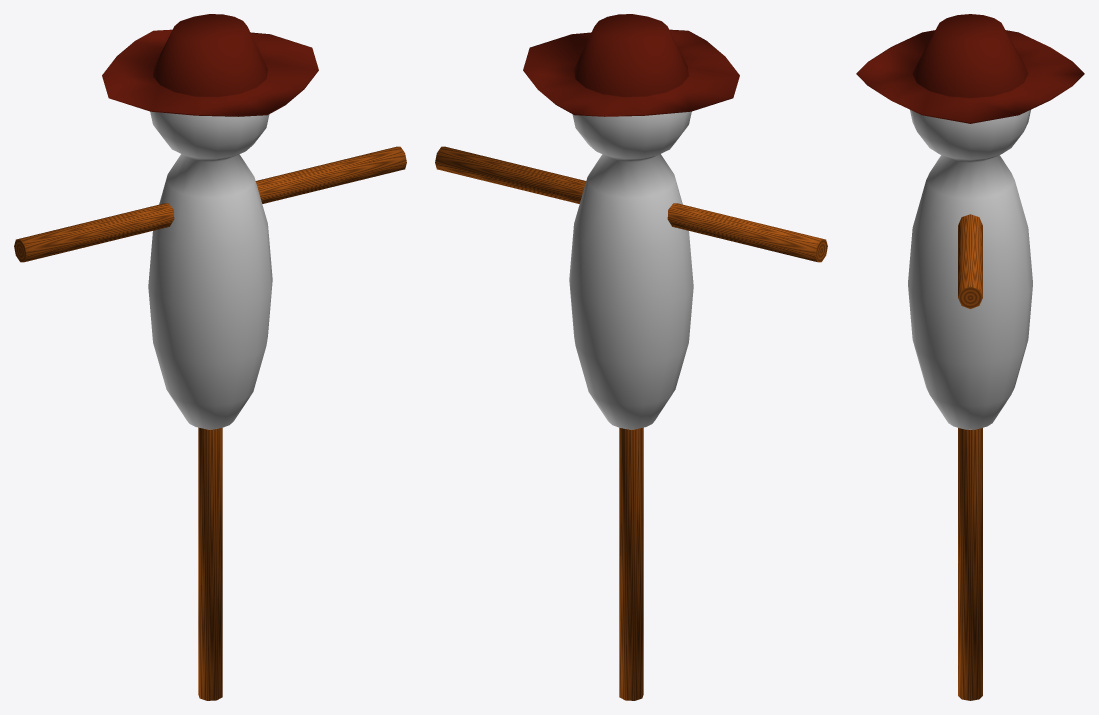
The model's file is scarecrow.dae.
The picture shows the model from 3 angles, left to right: view 1: azimuth 30°, elevation 25°; view 2: azimuth 150°, elevation 25°; view 3: azimuth 270°, elevation 25°; orthographic projection.
Visible parts, largest first — view 1: scarecrow, armStick, mainStick; view 2: scarecrow, armStick, mainStick; view 3: scarecrow, mainStick, armStick.
Part boxes in pixels (x1,y1,x2,y2): scarecrow: (102,14,318,429); armStick: (14,146,406,262); mainStick: (198,427,222,700); scarecrow: (523,14,739,429); armStick: (435,146,827,262); mainStick: (619,427,643,700); scarecrow: (856,14,1084,429); mainStick: (958,428,982,700); armStick: (958,214,982,308).
Size of the model in its own units: 7 by 3.64 by 11.73.
